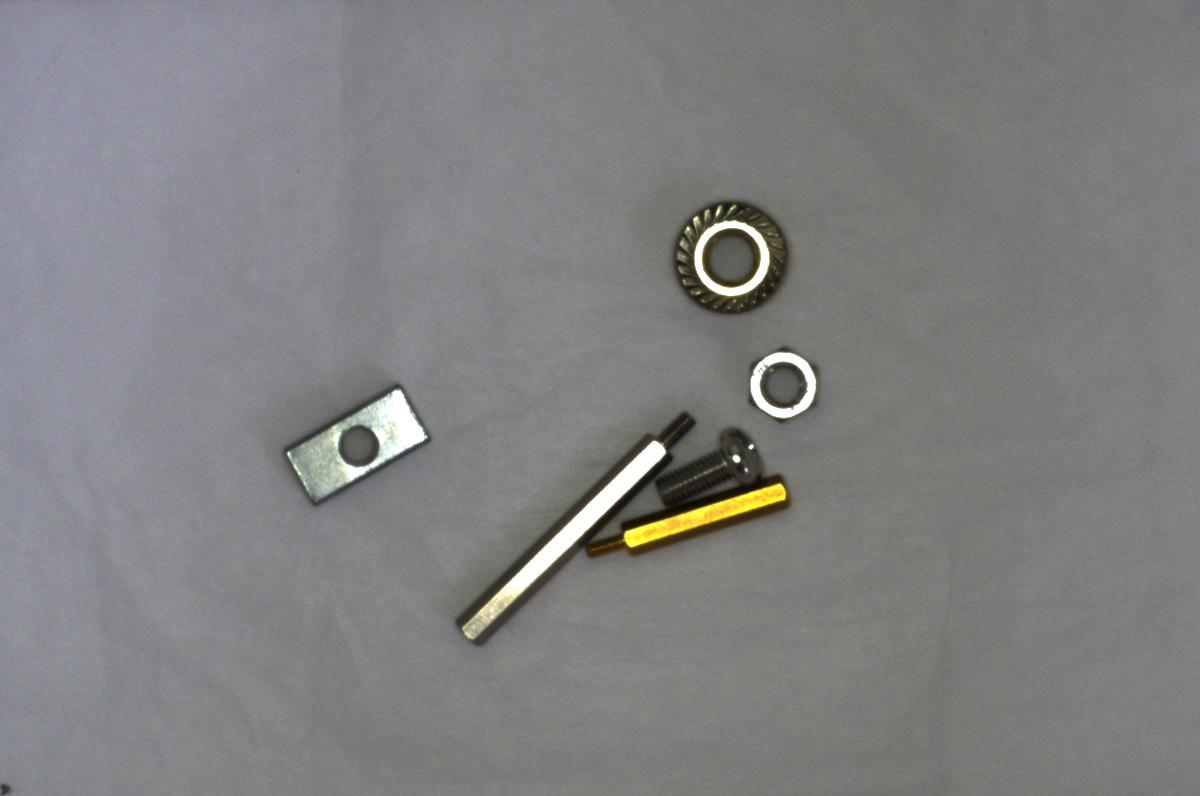Flange nut: (665, 194, 801, 323)
Hexagon nut: (738, 339, 825, 428)
Hexagon pillar: (580, 472, 799, 562)
Hexagonal steel column: (445, 409, 698, 647)
Rectangular nut: (281, 381, 431, 507)
Round head screw: (650, 426, 775, 506)
